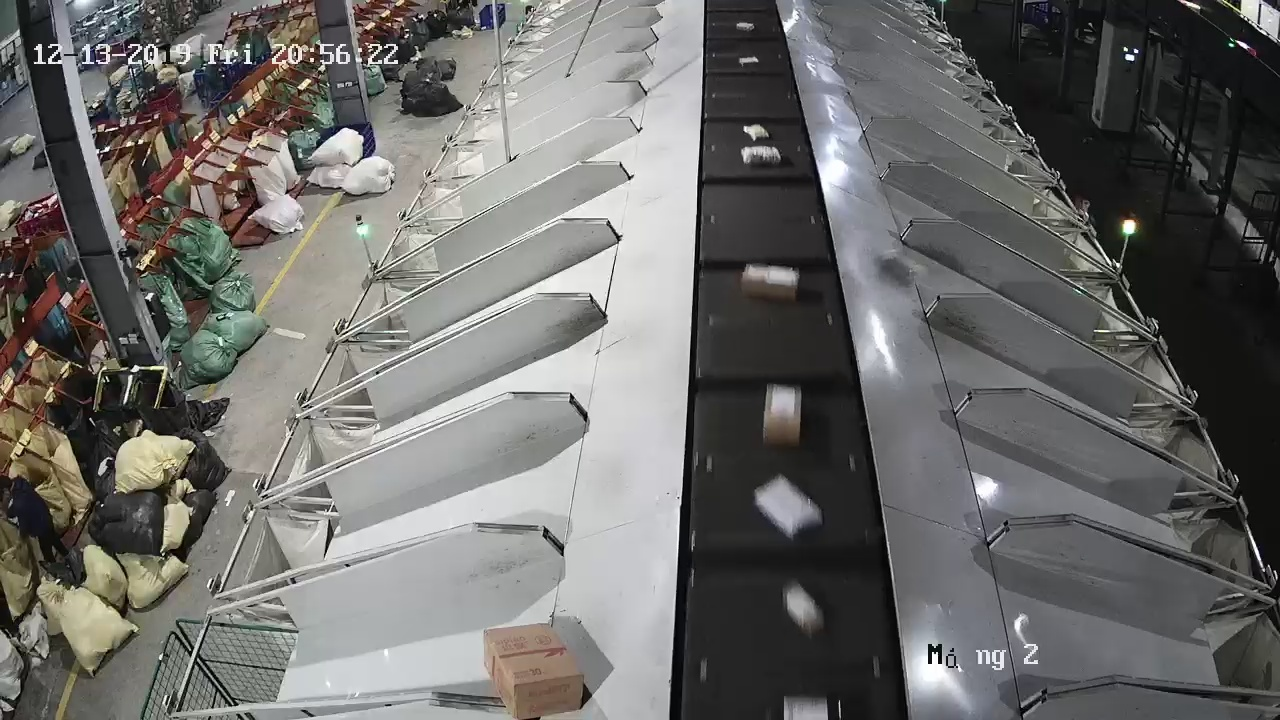parcel: (880, 251, 922, 288)
